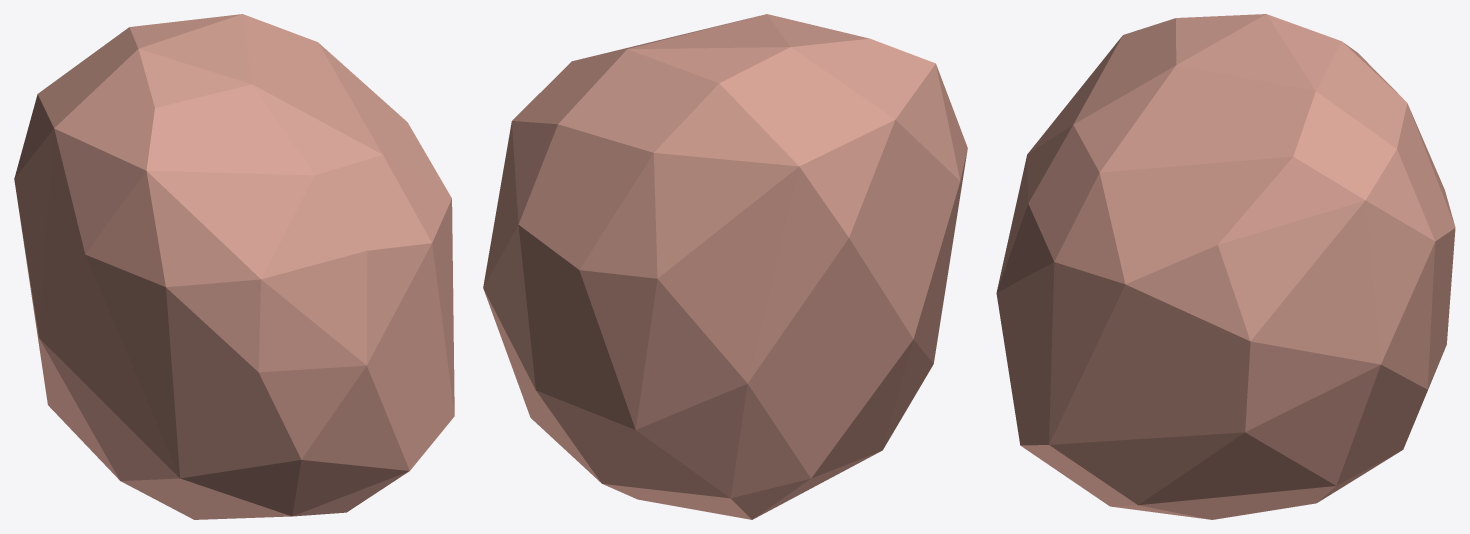
Rendered from 牛粪子弹模型.fbx.
The picture shows the model from 3 angles, left to right: view 1: azimuth 30°, elevation 25°; view 2: azimuth 150°, elevation 25°; view 3: azimuth 270°, elevation 25°; orthographic projection. The views are drawn at different scales.
Visible parts, largest first — view 1: 平面.002; view 2: 平面.002; view 3: 平面.002.
Part boxes in pixels (x1,y1,x2,y2): 平面.002: [14, 14, 454, 519]; 平面.002: [483, 14, 967, 519]; 平面.002: [996, 14, 1455, 519].
Size of the model in its own units: 14.99 by 16.66 by 15.57.
